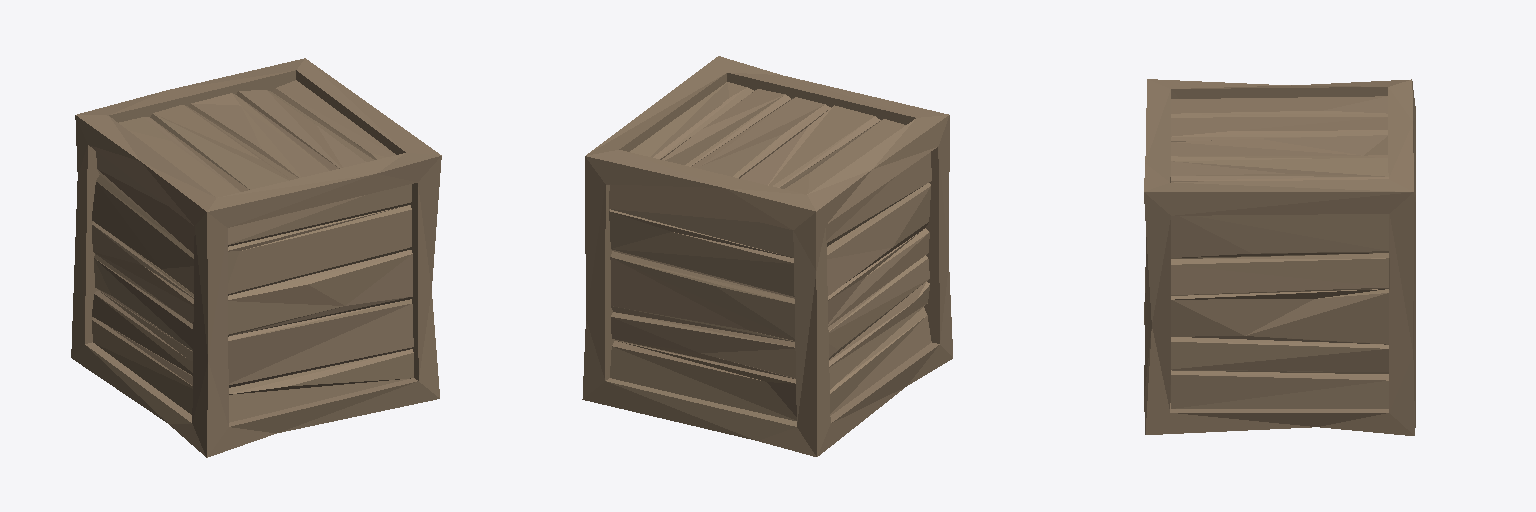
3 views of the same model, side by side, from view 1: azimuth 30°, elevation 25°; view 2: azimuth 150°, elevation 25°; view 3: azimuth 270°, elevation 25° (orthographic).
Parts seen in each view (by area): view 1: Crate; view 2: Crate; view 3: Crate.
Part boxes in pixels (bbox=[...]): Crate: bbox=[71, 58, 441, 457]; Crate: bbox=[582, 56, 952, 456]; Crate: bbox=[1144, 79, 1415, 435].
Bounding box in the file's own units: 1.01 × 1.02 × 1.01.
1 materials, 1 textured.